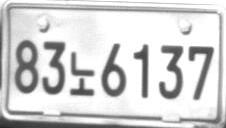1: (131, 43, 156, 98)
3: (158, 44, 183, 99), (42, 41, 65, 95)
6: (100, 43, 126, 96)
7: (187, 46, 213, 100)
8: (14, 39, 39, 93)
노: (69, 51, 94, 95)
